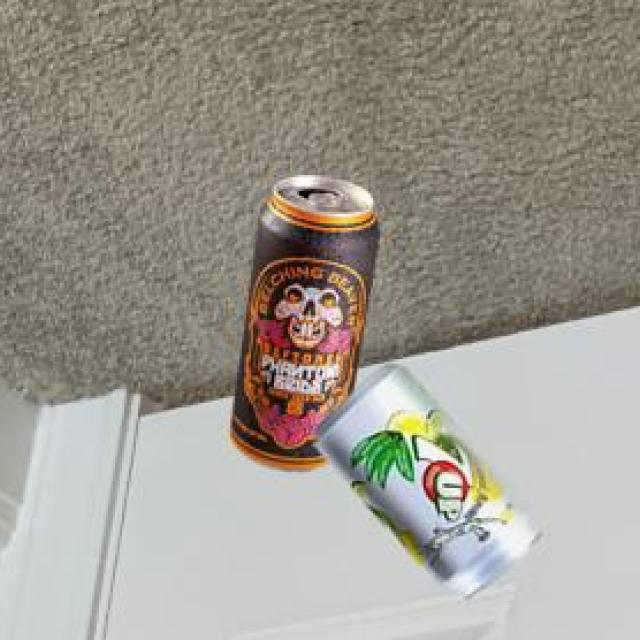logam: (321, 367, 542, 602), (234, 178, 383, 473)
